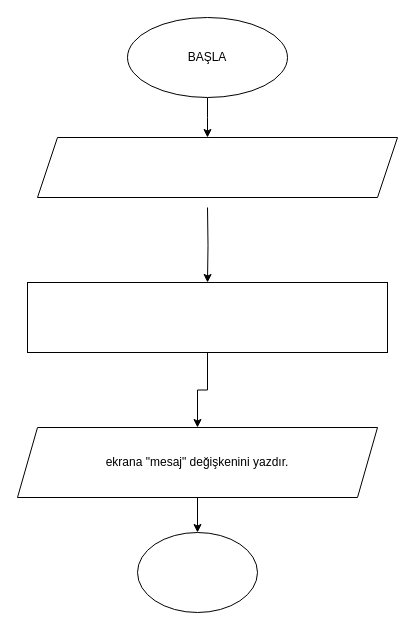
The diagram is 415 pixels wide and 630 high, and some of its shapes have lost their labels. Here are the shapes that lost their labels. From the top down, the centre of each, then its label:
point 217,167: Kullanıcıdan "isim" verisini al
point 207,317: mesaj="Hoş Geldiniz Sayın" +isim
